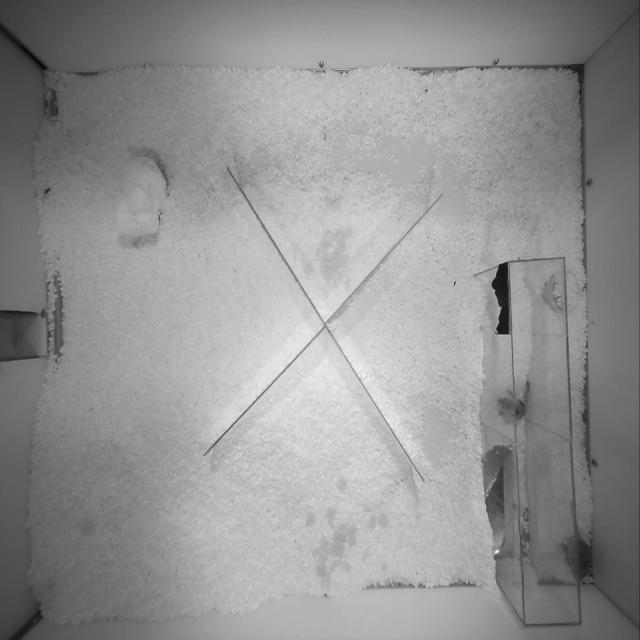pup_fluffy: (562, 503, 592, 581)
pup_spotted: (498, 381, 529, 421)
